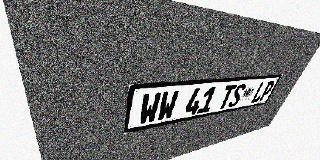1: (197, 86, 218, 114)
4: (183, 87, 205, 116)
L: (250, 81, 269, 103)
P: (258, 81, 276, 102)
S: (227, 83, 247, 108)
T: (217, 84, 237, 110)
W: (138, 92, 162, 125), (156, 90, 179, 122)
